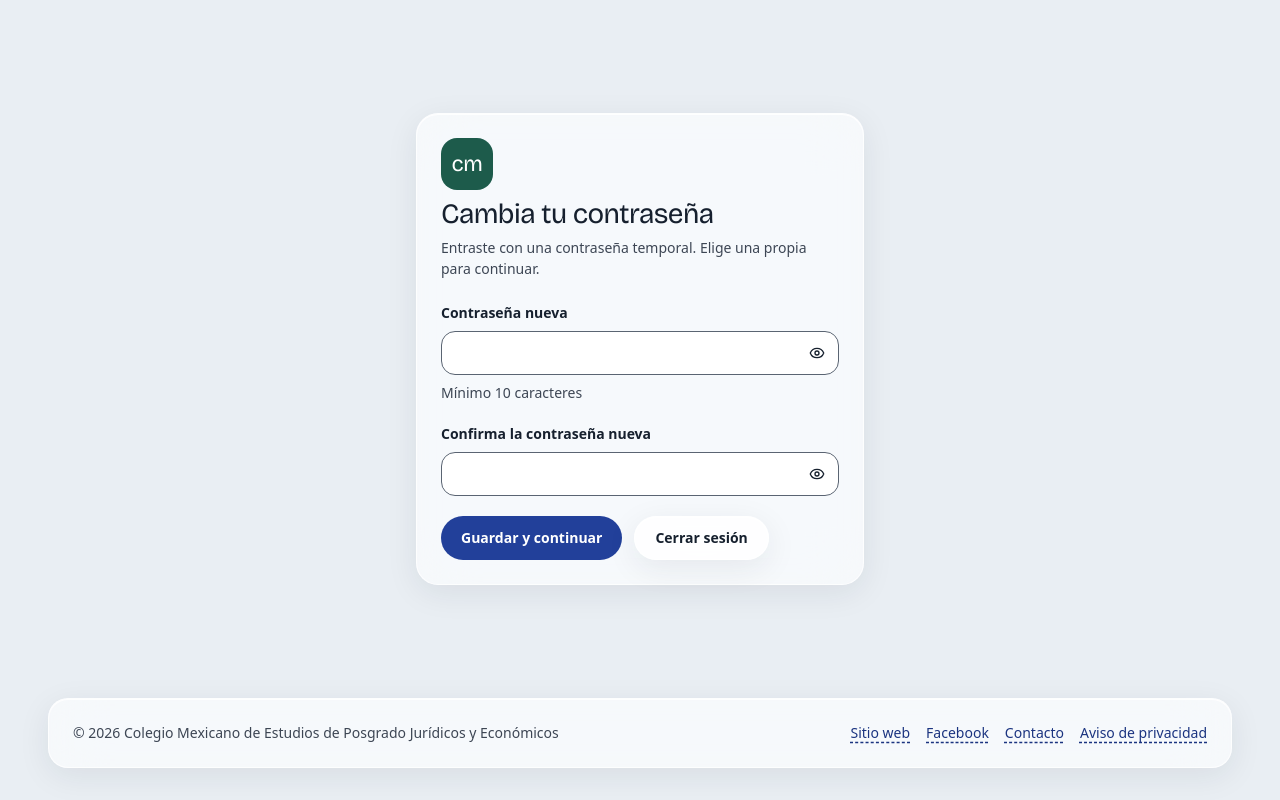
Scenario: ataque (DESIGN-01b-1 r1): un solo pie al navegar entre pantallas › /cambiar-contrasena → /maestro tras cambiarla: nunca dos pies; al final, el del marco
Expected: the heading "Cambia tu contraseña" is shown, [441,197,714,231]
Expected: the number of footers is 1, [48,698,1232,768]
Note: AUTH-03a ronda 0 (C-5): sin el campo de la temporal.
Step 1. Type "mi-clave-propia-1" into the password field labelled "Contraseña nueva" → (640, 353), box [441,331,839,375]
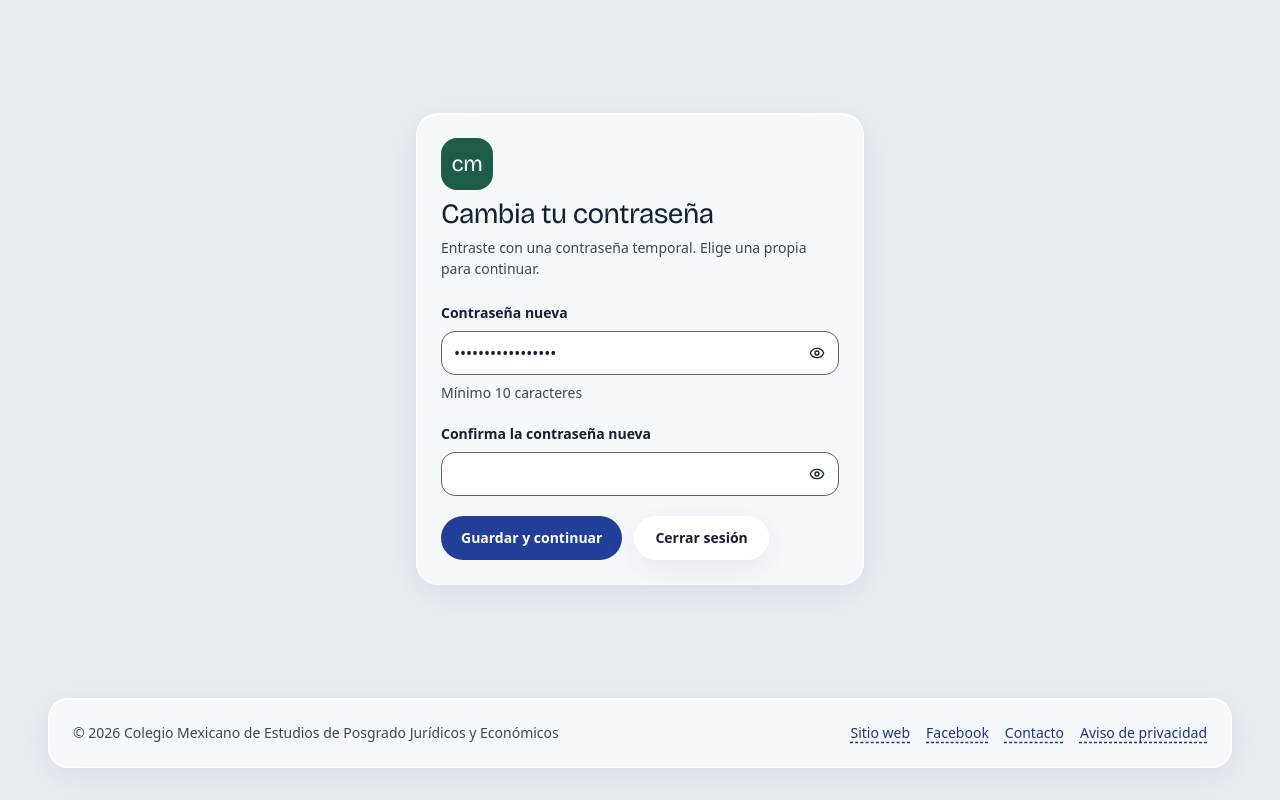
Step 2. Type "mi-clave-propia-1" into the password field labelled "Confirma la contraseña nueva" → (640, 474), box [441,452,839,496]
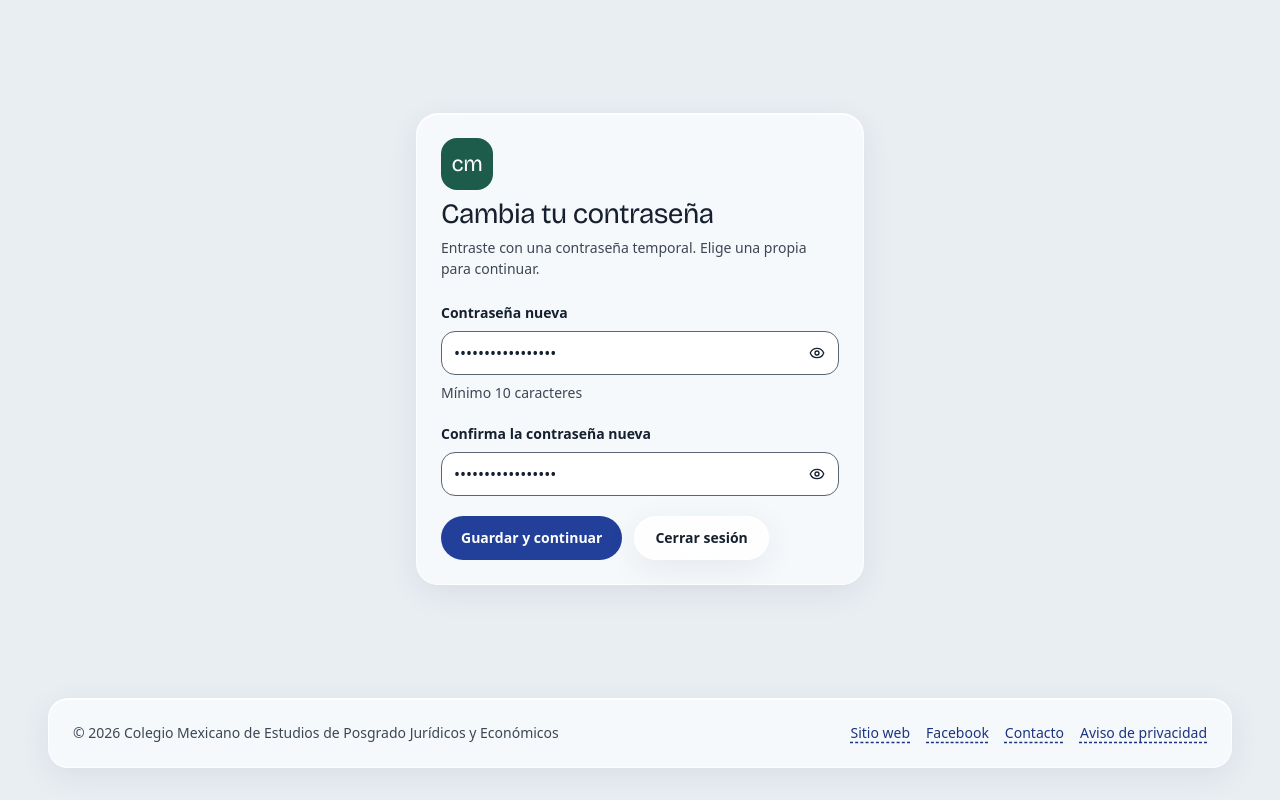
Step 3. Click the button "Guardar y continuar" → (532, 538), box [441,516,622,560]
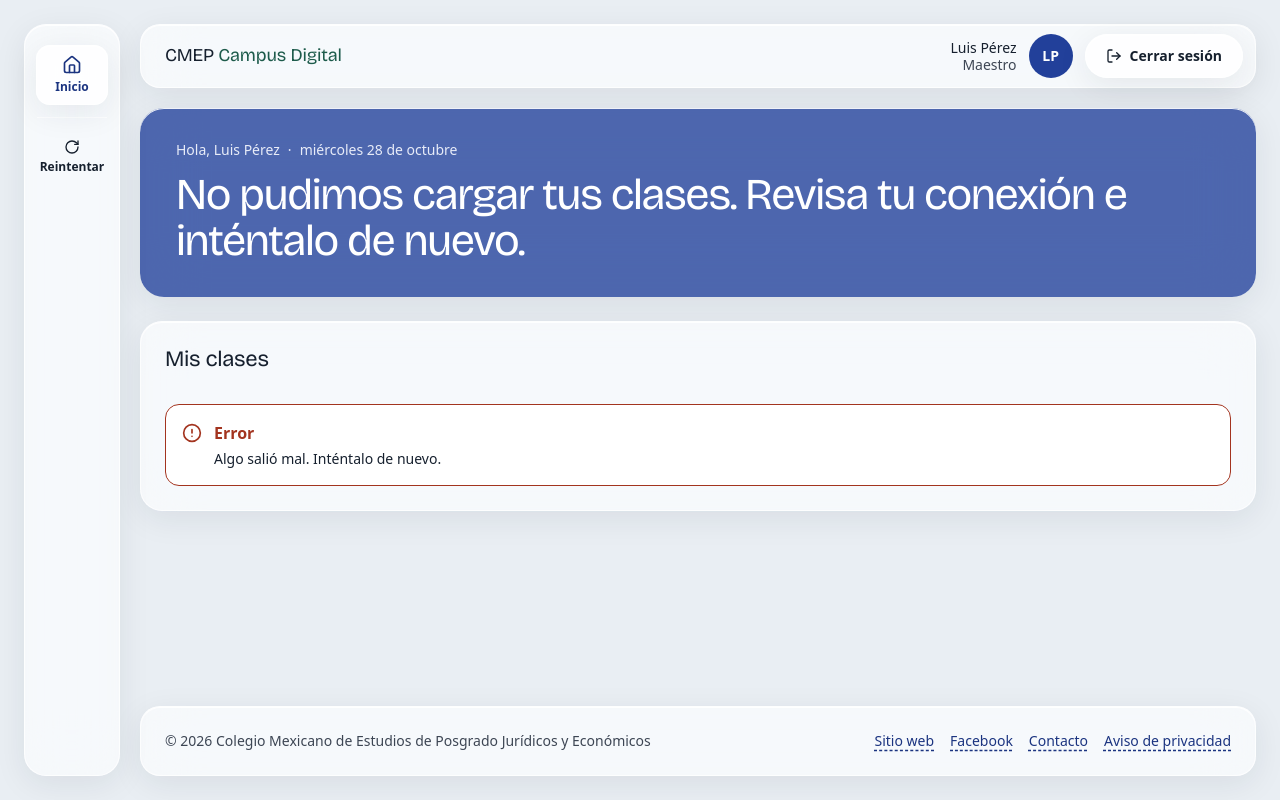
Expected: the number of footers is 1, [140,706,1256,776]
Now the text "Hola, Luis Pérez" is shown, box [176,140,280,160]
Now the element that starts with "Inicio" is shown
